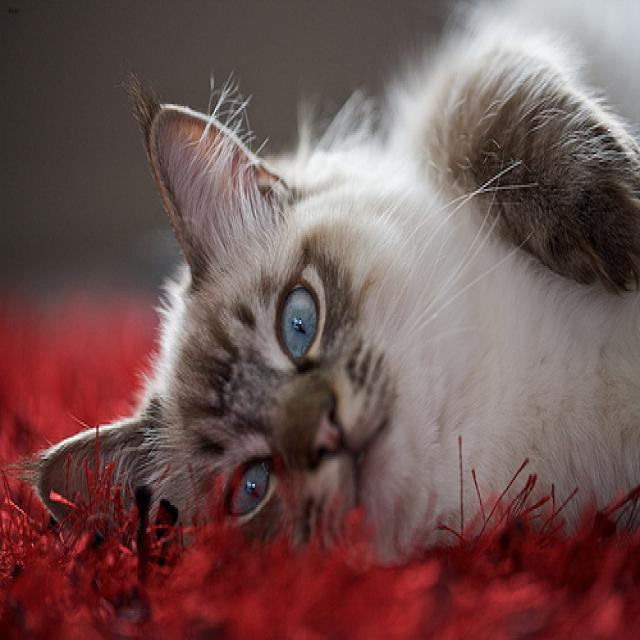Ragdoll: (32, 94, 458, 579)
